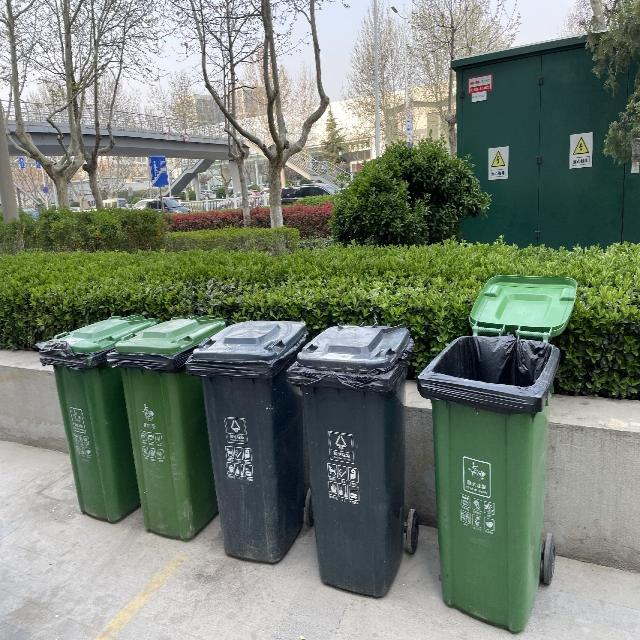garbage_bin: (416, 332, 560, 634), (286, 322, 414, 600), (184, 318, 307, 564), (106, 315, 226, 540), (35, 315, 156, 525)
